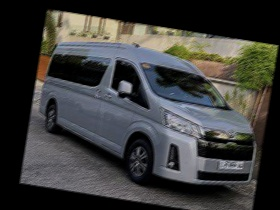van: (30, 37, 269, 198)
